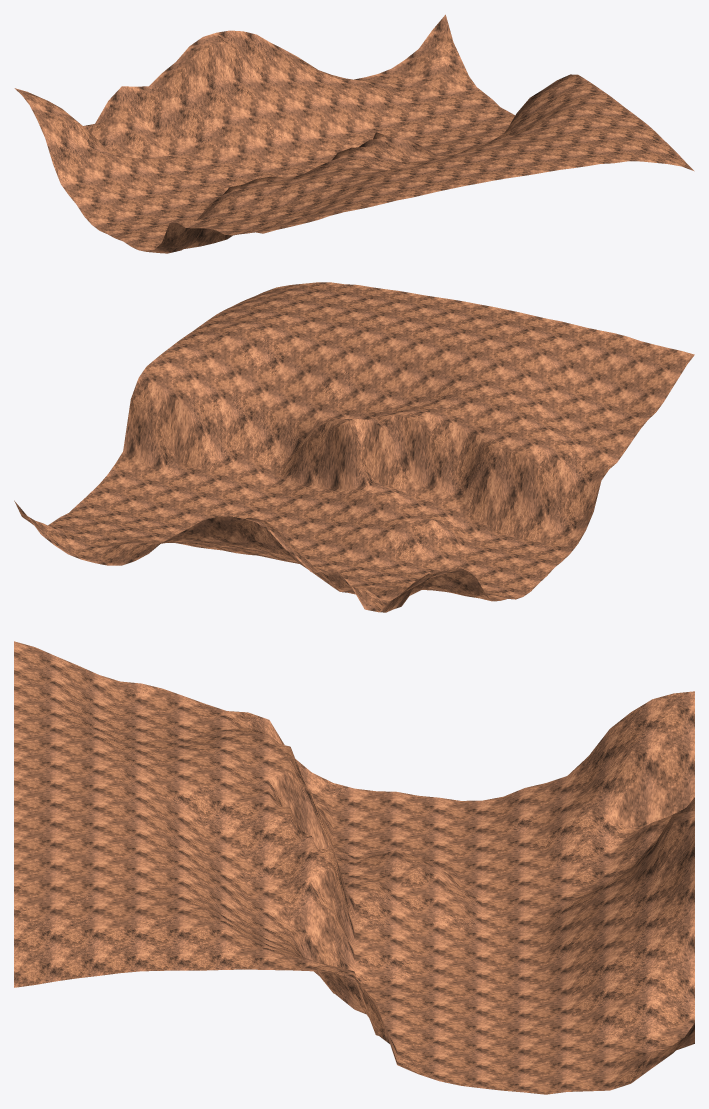
Rendered from terrain_00_20.dae.
3 views of the same model, one above another, from view 1: azimuth 30°, elevation 25°; view 2: azimuth 150°, elevation 25°; view 3: azimuth 270°, elevation 25° (orthographic). The views are drawn at different scales.
Parts seen in each view (by area): view 1: terrain_00_20-node; view 2: terrain_00_20-node; view 3: terrain_00_20-node.
Boxes of the visible parts, x1,y1,x2,y2 form: terrain_00_20-node: [14, 14, 694, 253]; terrain_00_20-node: [14, 282, 694, 612]; terrain_00_20-node: [14, 641, 694, 1094].
Size of the model in its own units: 128 by 128 by 34.87.
1 material, 1 textured.
